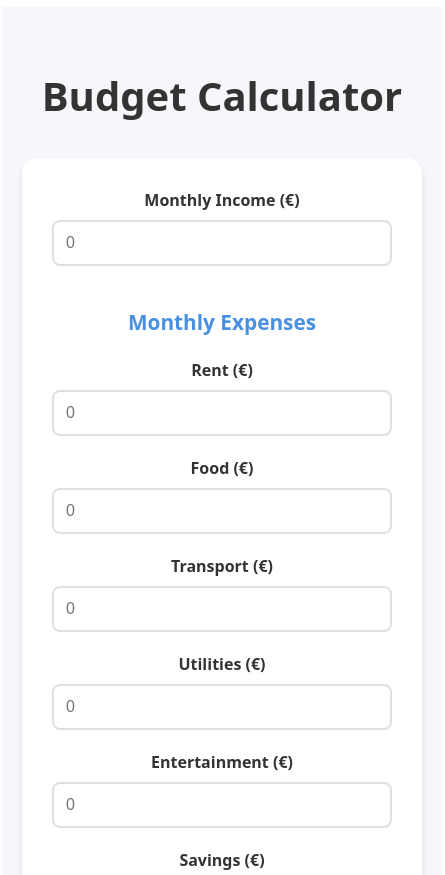
Test case: BudgetCalculator › displays deficit correctly when expenses > income
Type "500" into the 1st number field with placeholder "0" at x=222, y=243, box top-left (52, 220), bottom-right (392, 266)
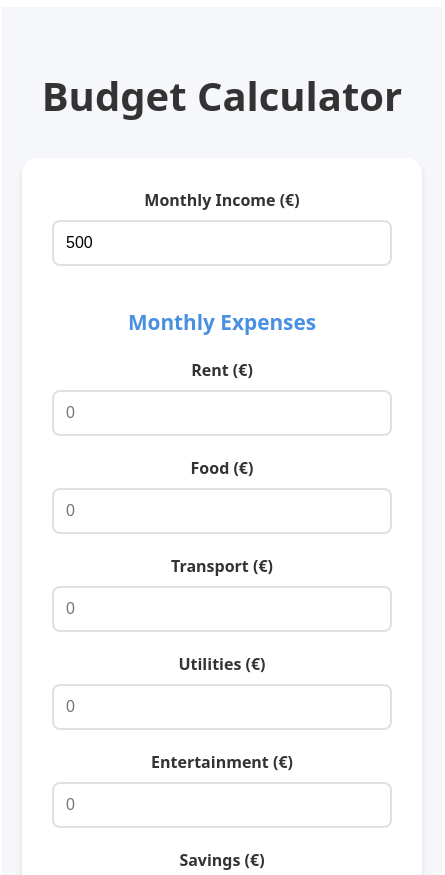
Type "1000" into the number field with placeholder "0" below "rent" at x=222, y=413, box top-left (52, 390), bottom-right (392, 436)
(page scrolled)
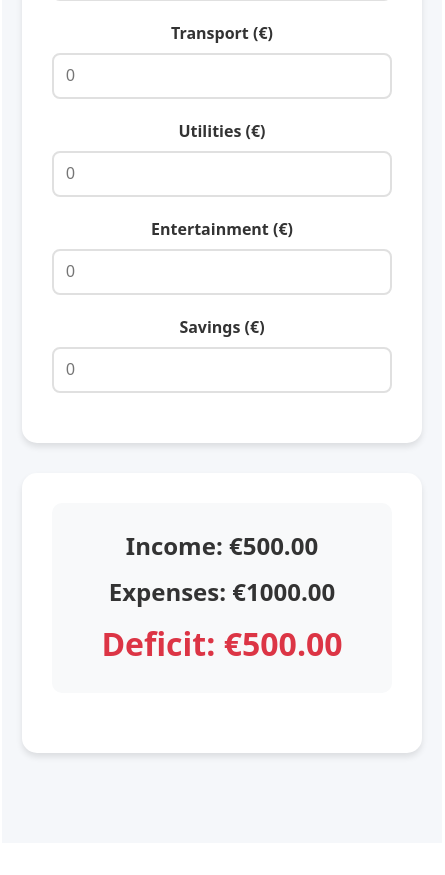
Expected: the text "Deficit: €500.00" is shown, top-left (101, 622), bottom-right (343, 665)
